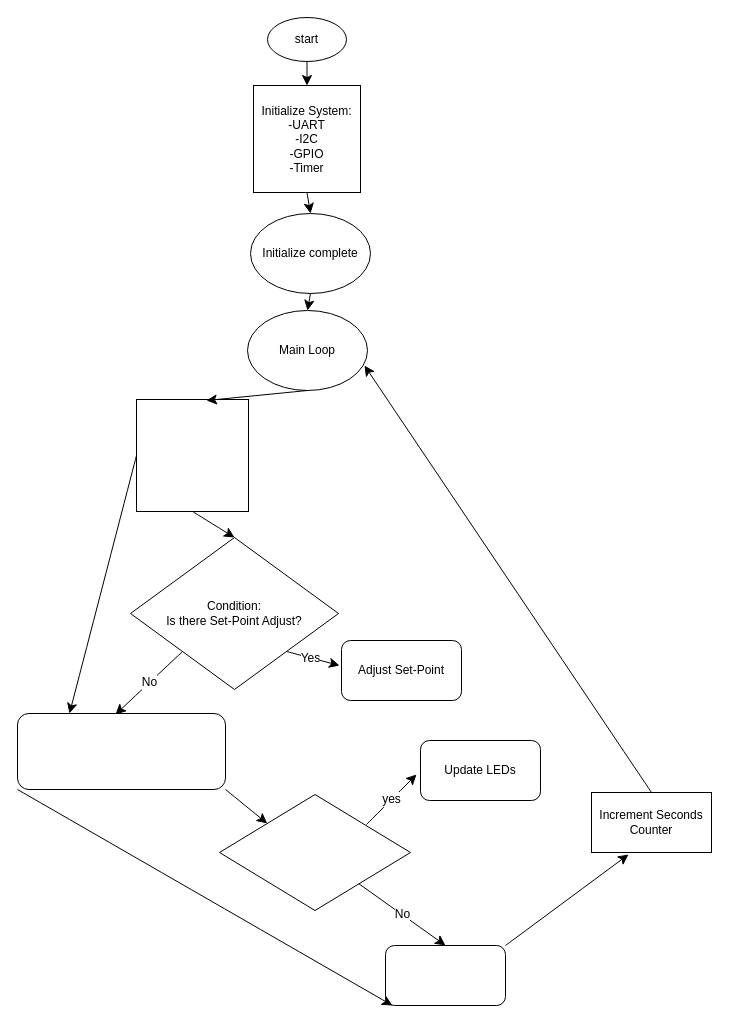
This 729x1023 diagram has some shape labels left out. The box of each missing label's shape, as (x1, y1, x2, y2) in pixels:
Check Set-Point Buttons every 200 ms: (136, 398, 248, 512)
Compare Ambient and Desired Temperature every 500ms: (16, 712, 226, 790)
Condition Temperature Adjusted?: (218, 794, 410, 910)
Send State to UART every second: (384, 944, 506, 1006)
